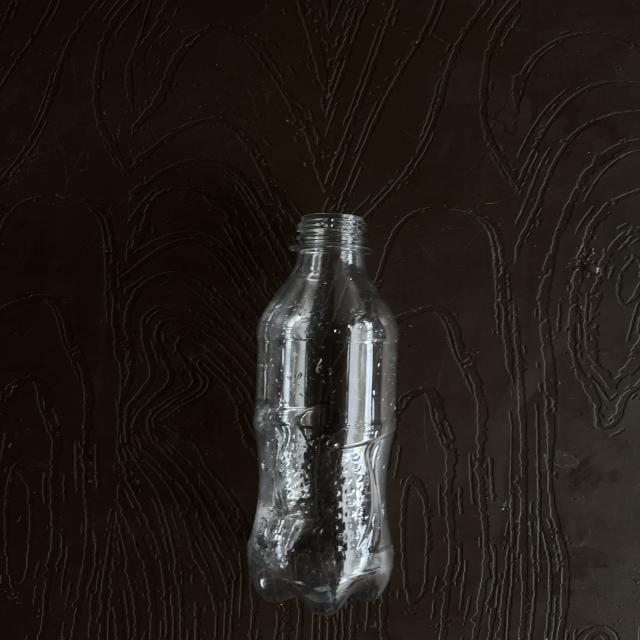PET_With_Liquid: (249, 214, 397, 614)
